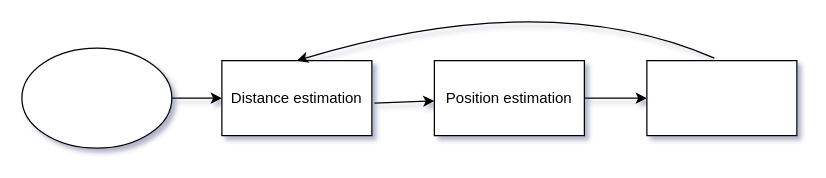
Some shapes in this 826 by 178 pixel diagram are drawn without their labels. The centre of each missing label's shape, as x and y in pixels:
"Kalman Filtering" belongs at [721,97].
"Start" belongs at [96,97].
